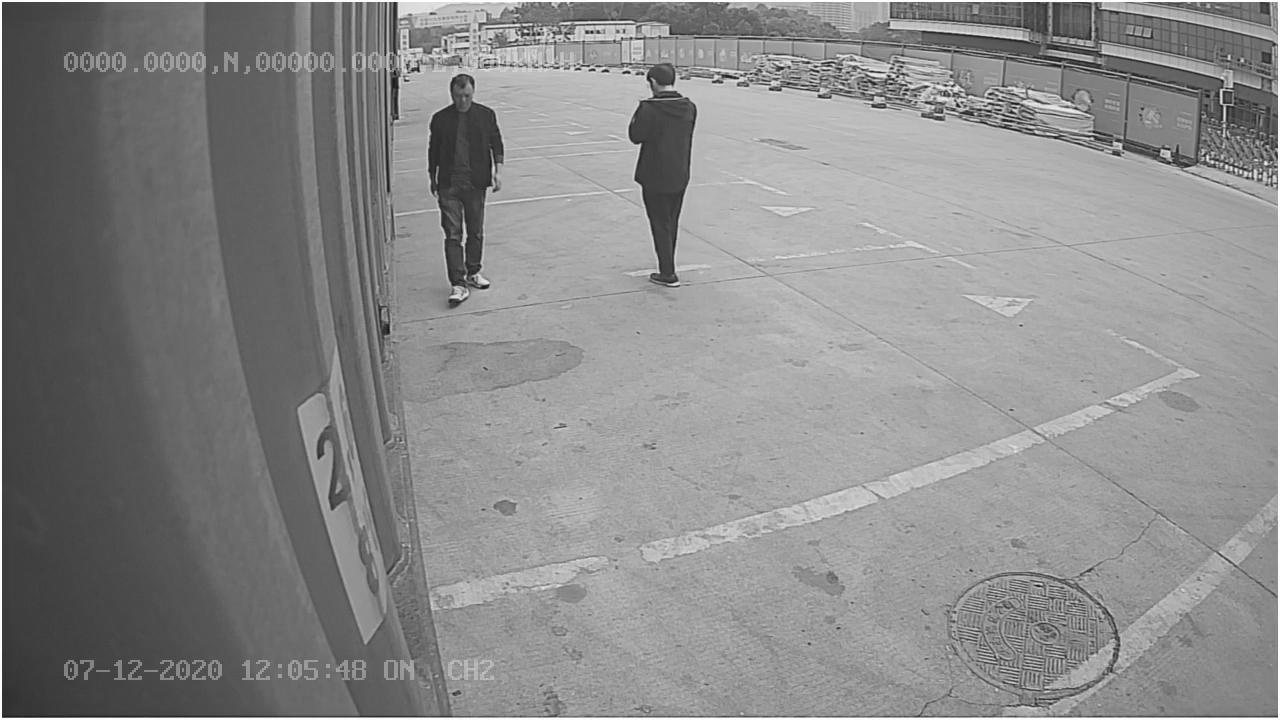person: (419, 68, 512, 306), (619, 57, 704, 292)
